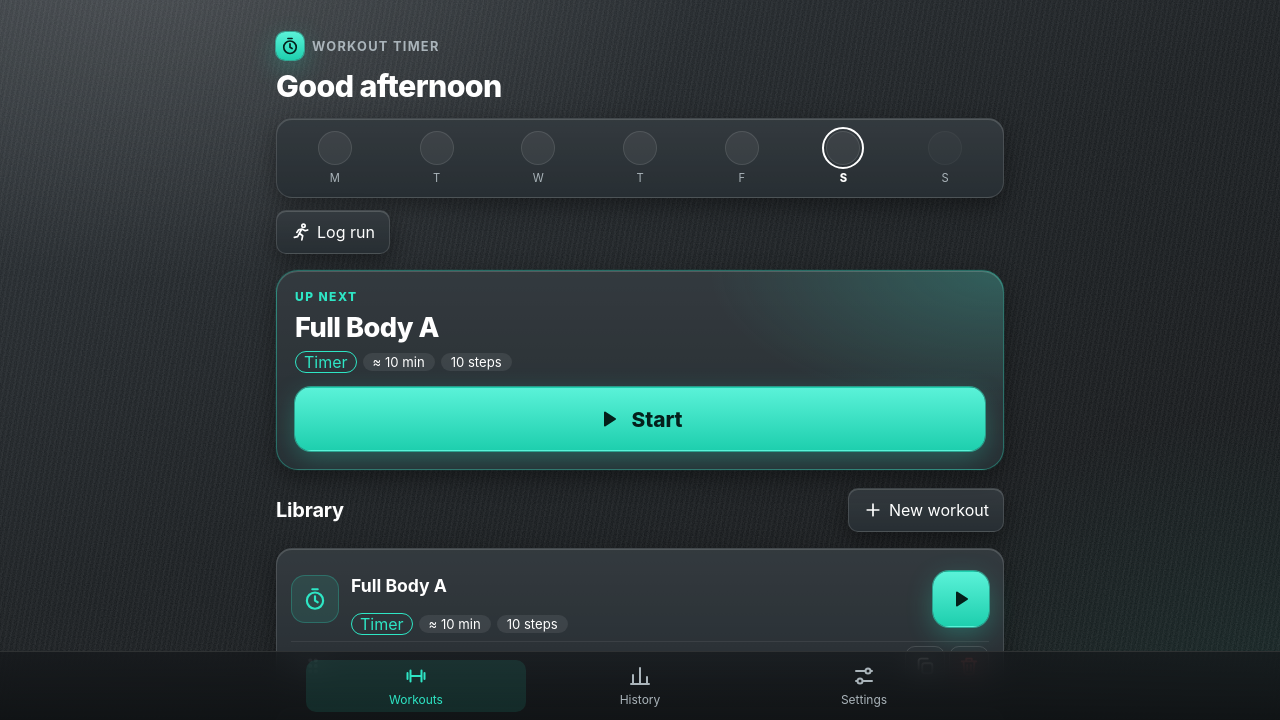
Test: App › hides the tab bar while editing and while running a workout
Click the button "Full Body A" at (399, 585), box [351, 563, 921, 607]
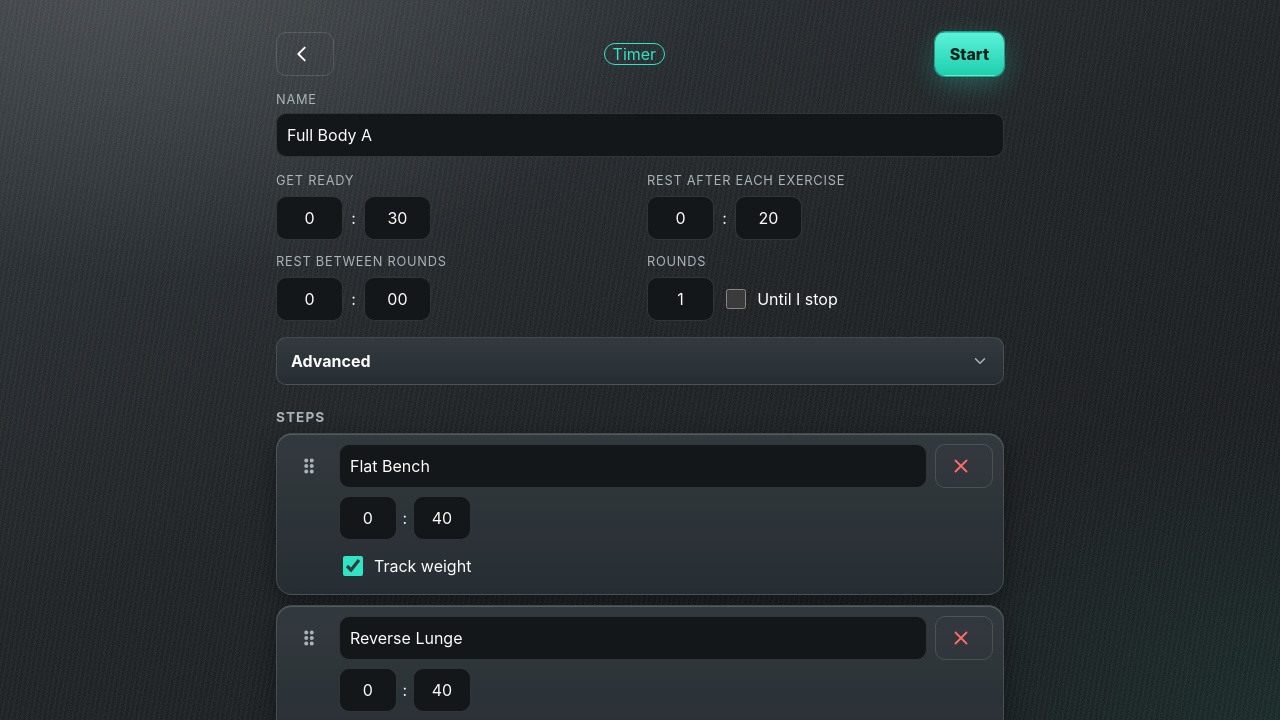
Expected: the navigation bar "Main" is gone
Click the button named "Back to library" in the row of "Timer" at (305, 54), box [276, 32, 334, 76]
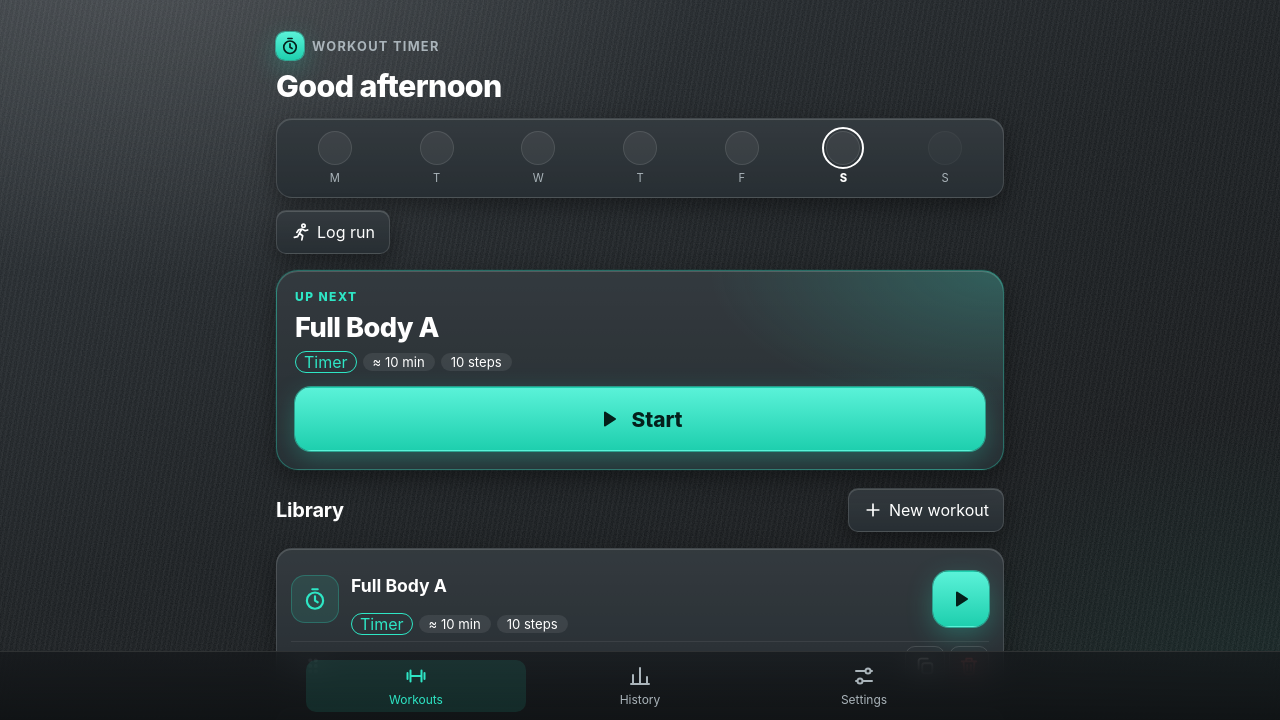
Expected: the navigation bar named "Main" is shown, [0, 651, 1279, 719]
Click the button named "Start Full Body A" at (961, 599), box [933, 571, 989, 627]
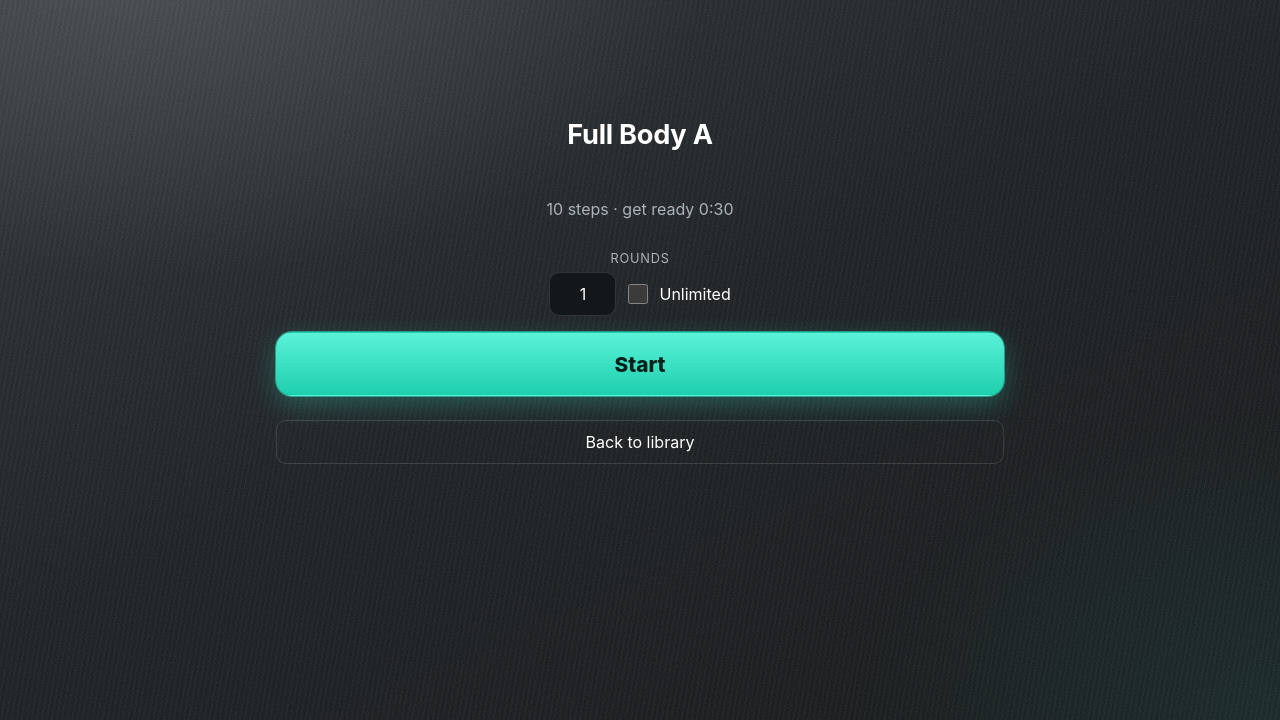
Expected: the navigation bar "Main" is gone
